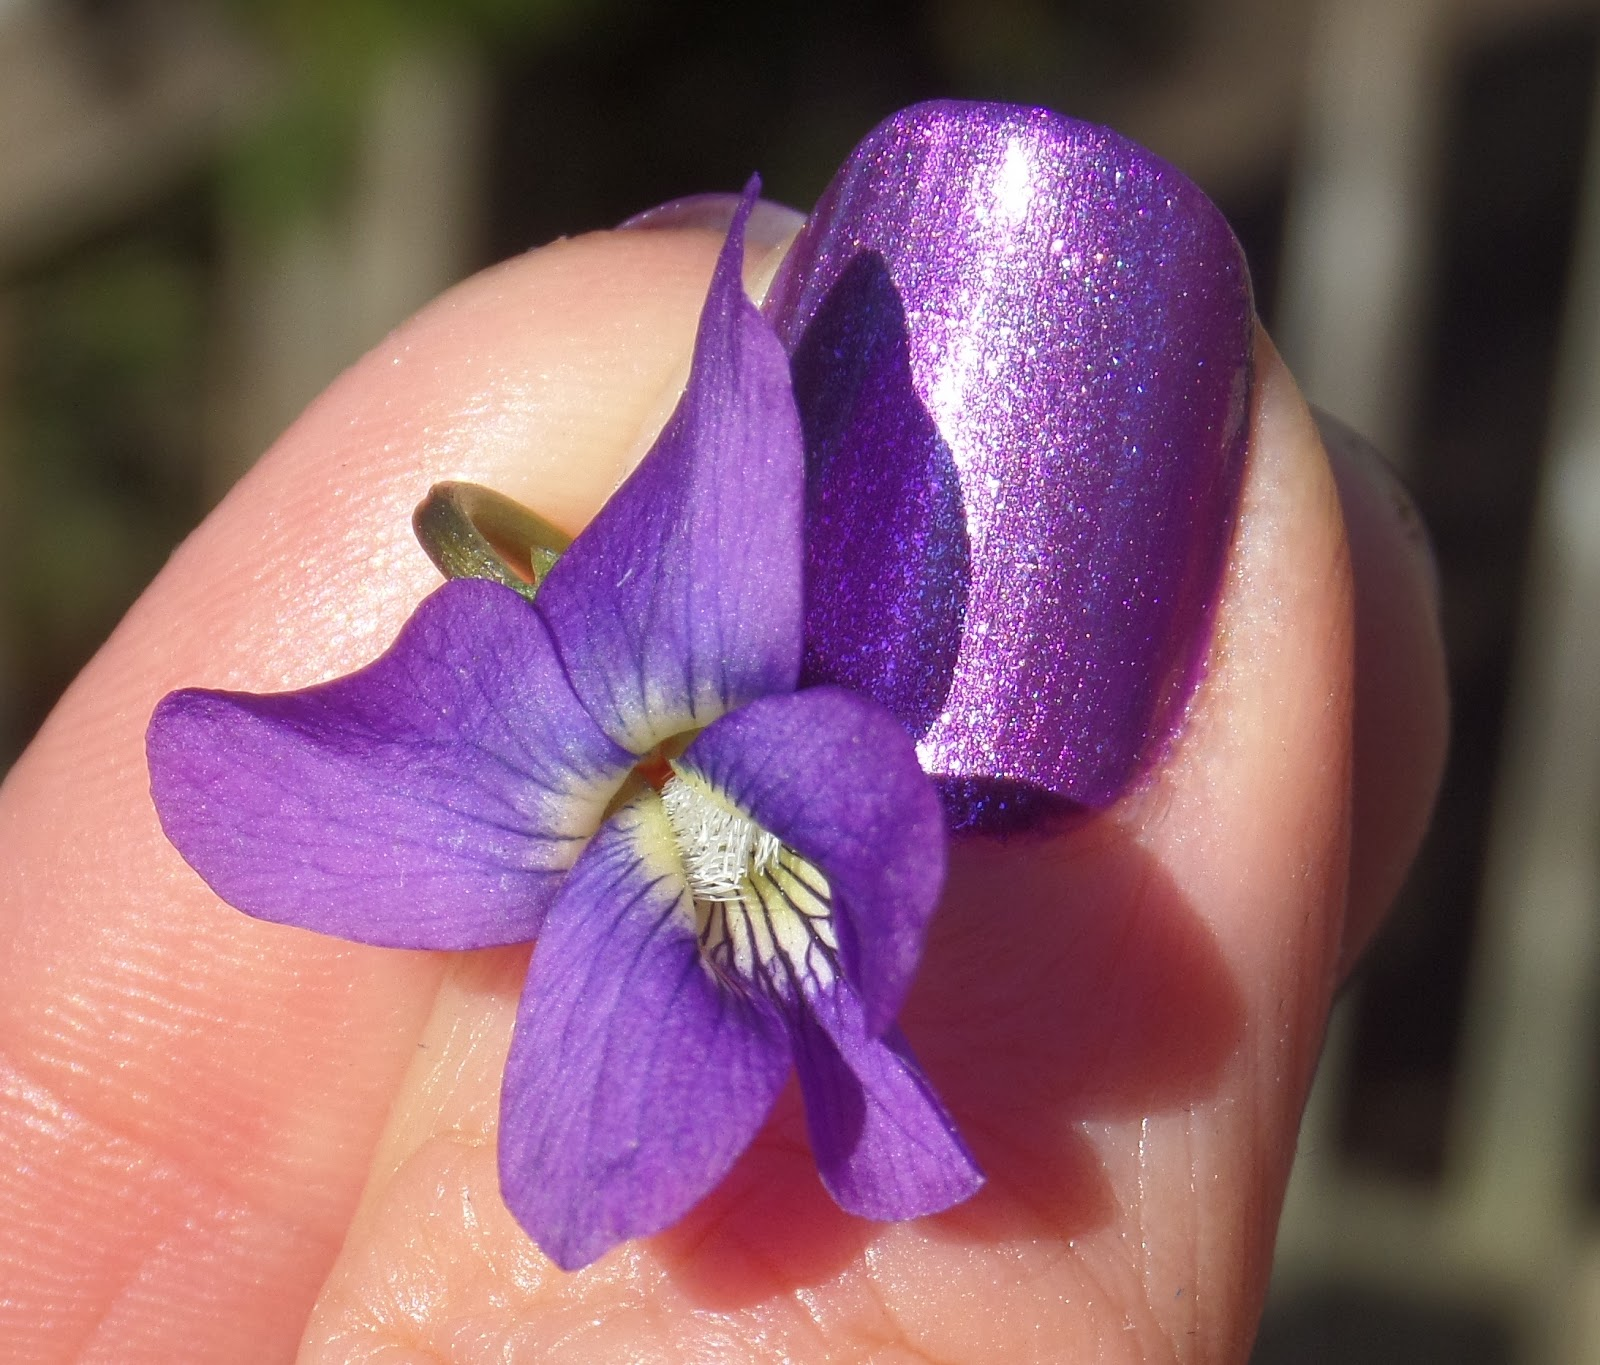violet: (143, 279, 988, 1286)
